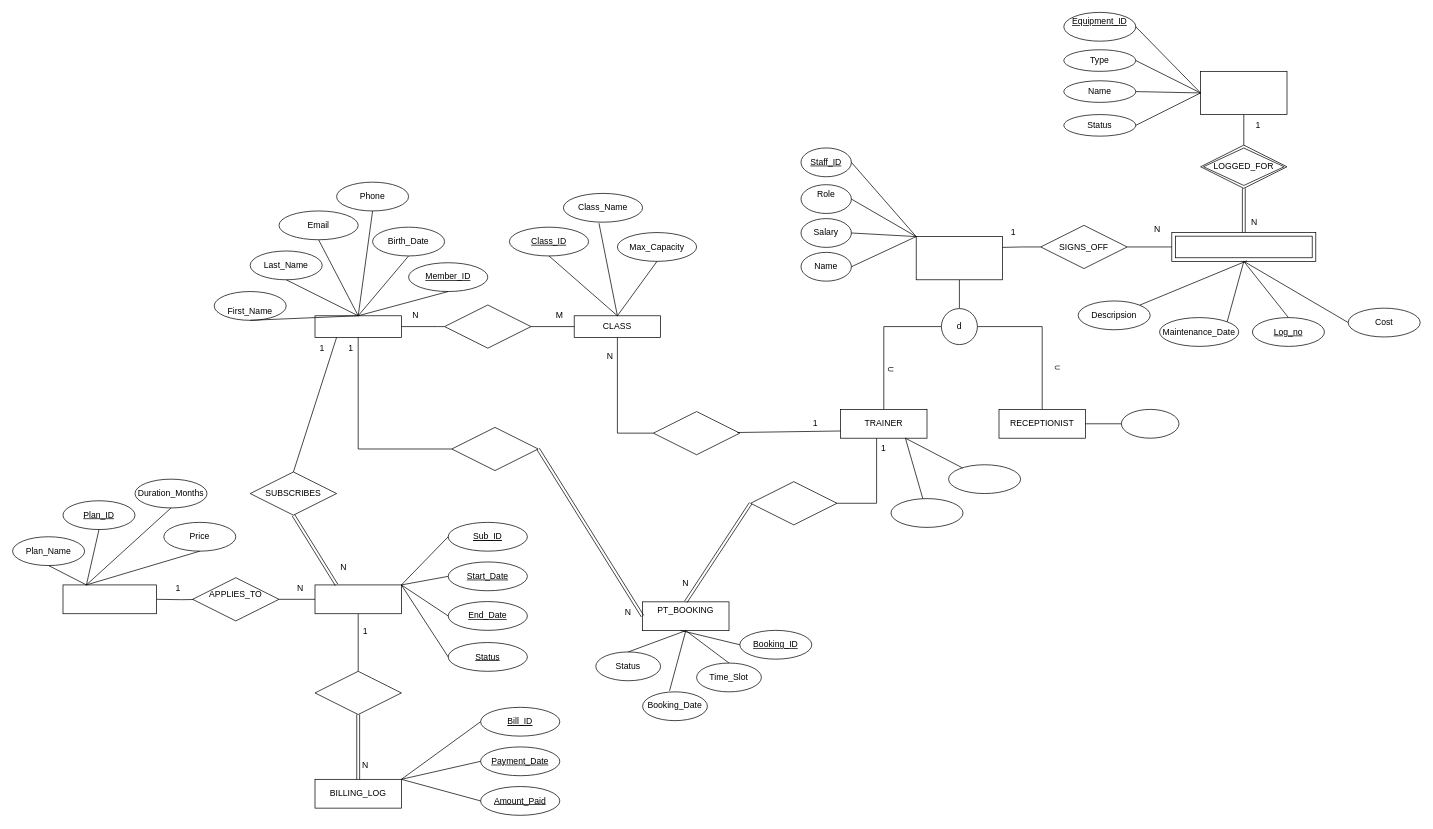
Image size: 1433x829. Some labels were removed from this diagram. The box of each missing label's shape, as (x1, y1, x2, y2) in pixels:
ATTENDS: (444, 304, 531, 348)
Certification: (890, 498, 963, 527)
CONDUCTS: (750, 481, 837, 525)
EQUIPMENT: (1200, 71, 1287, 115)
GENERATES: (314, 671, 401, 715)
INSTRUCTS: (653, 411, 740, 455)
MAINTENANCE_LOG: (1171, 232, 1316, 261)
MEMBER: (314, 315, 401, 337)
MEMBERSHIP_PLAN: (62, 584, 157, 614)
RESERVES_PT: (451, 427, 538, 471)
Shift: (1121, 409, 1179, 438)
Specialty: (948, 464, 1021, 494)
STAFF: (915, 236, 1003, 280)
SUBSCRIPTION: (314, 584, 401, 614)
